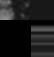bow: (0, 20, 31, 57)
breastplate: (31, 0, 54, 20)
spider: (0, 0, 31, 20)
